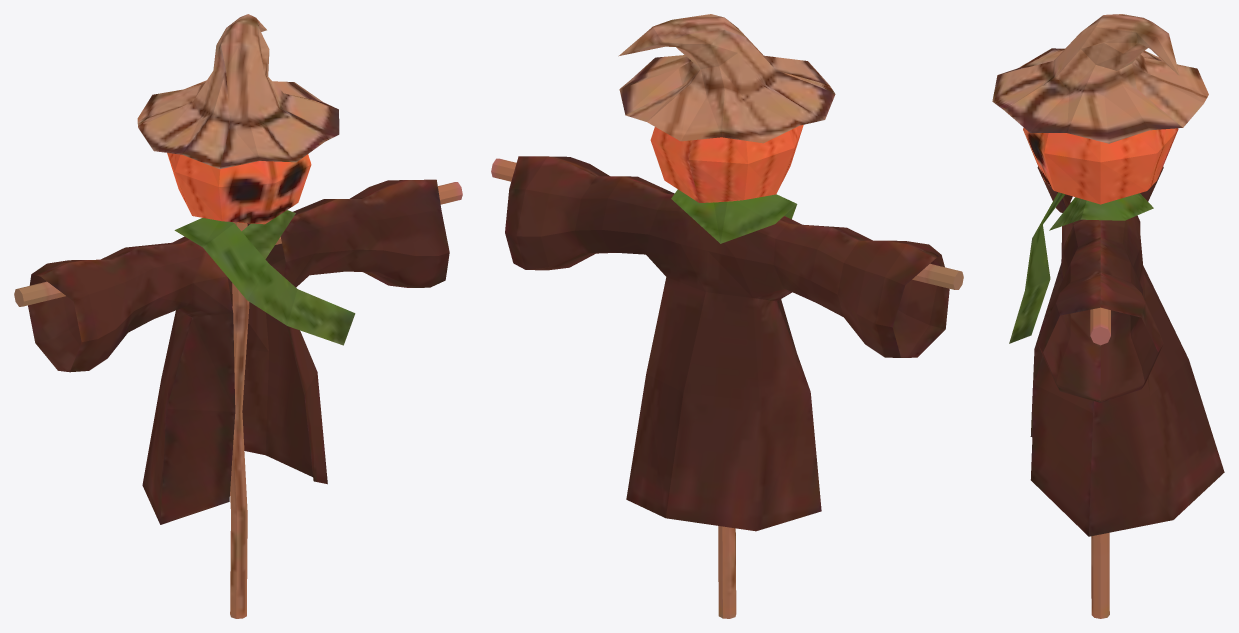
The model's file is espantapajaros.glb.
3 views of the same model, side by side, from view 1: azimuth 30°, elevation 25°; view 2: azimuth 150°, elevation 25°; view 3: azimuth 270°, elevation 25° (orthographic). The views are drawn at different scales.
Parts seen in each view (by area): view 1: Scarecrow; view 2: Scarecrow; view 3: Scarecrow.
Part boxes in pixels (x1,y1,x2,y2): Scarecrow: (14,14,462,618); Scarecrow: (491,14,963,618); Scarecrow: (992,14,1224,618).
Size of the model in its own units: 14.12 by 17.61 by 6.12.
1 material, 1 textured.
